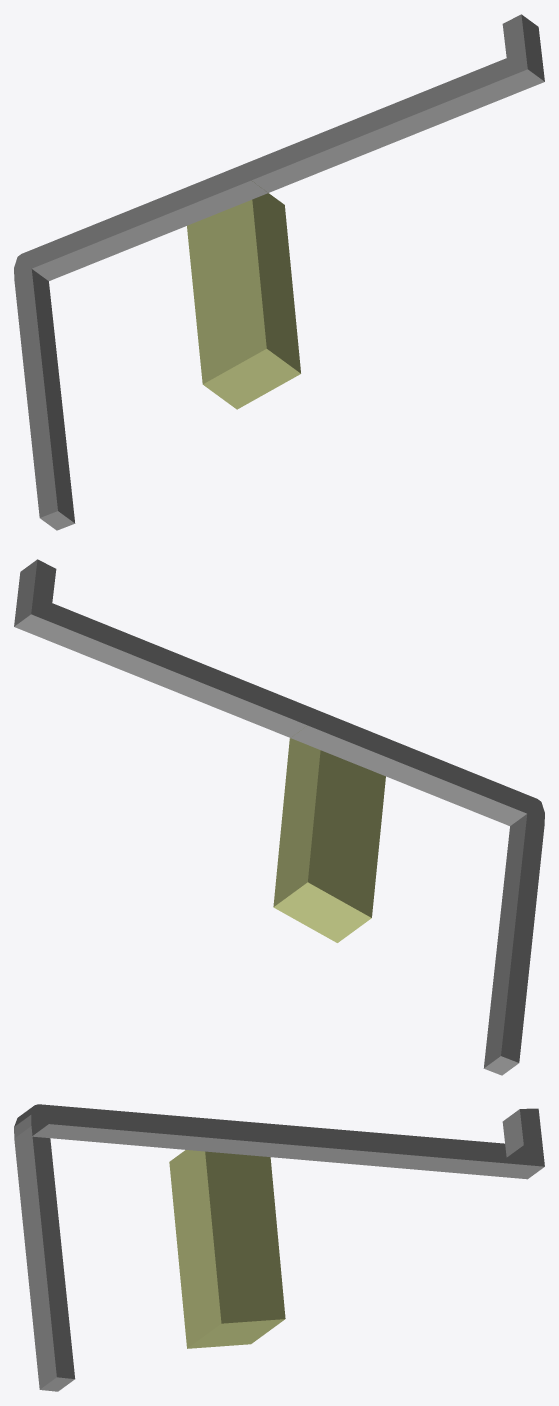
The picture shows the model from 3 angles, top to bottom: view 1: azimuth 30°, elevation 25°; view 2: azimuth 150°, elevation 25°; view 3: azimuth 330°, elevation 25°; orthographic projection.
Visible parts, largest first — view 1: 0_2_0_1_2_1_2_2_0; view 2: 0_2_0_1_2_1_2_2_0; view 3: 0_2_0_1_2_1_2_2_0.
Boxes of the visible parts, left/top/right/bottom form: 0_2_0_1_2_1_2_2_0: left=14, top=14, right=544, bottom=530; 0_2_0_1_2_1_2_2_0: left=14, top=559, right=544, bottom=1075; 0_2_0_1_2_1_2_2_0: left=14, top=1104, right=544, bottom=1391.
Bounding box in the file's own units: 51.73 × 37.16 × 6.
